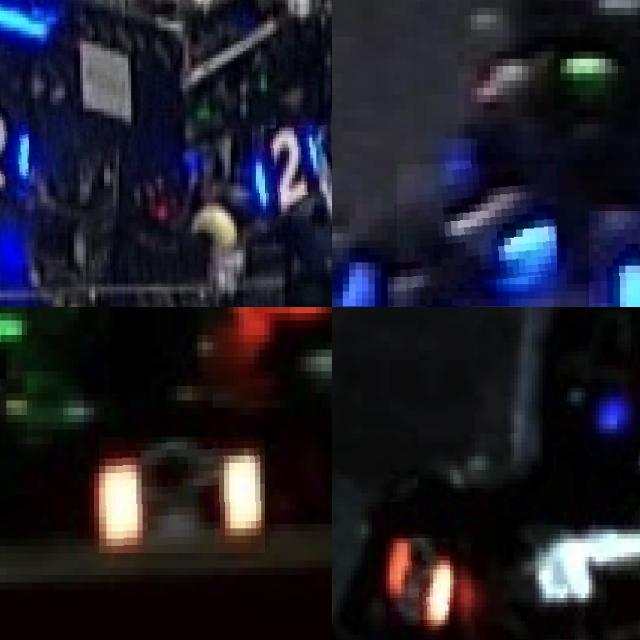B1: (397, 164, 557, 288), (332, 251, 477, 307)
B2: (252, 125, 327, 216), (0, 108, 28, 195)
Rs: (99, 437, 265, 553), (390, 538, 450, 626)
